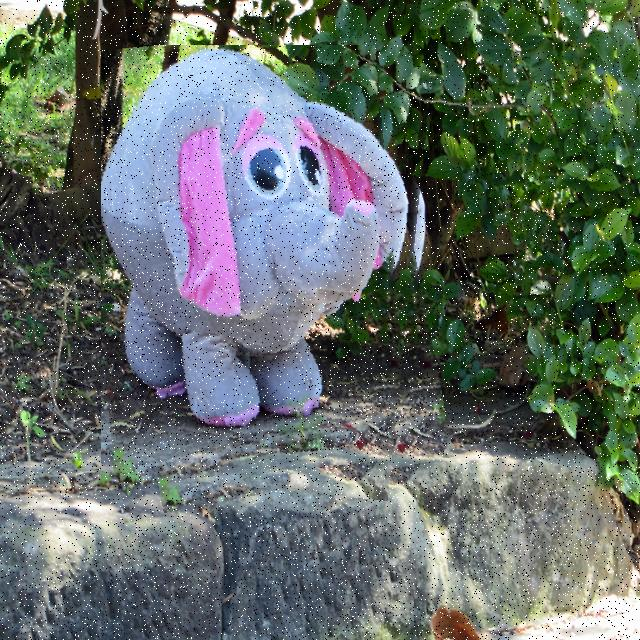elephant: (101, 45, 435, 501)
